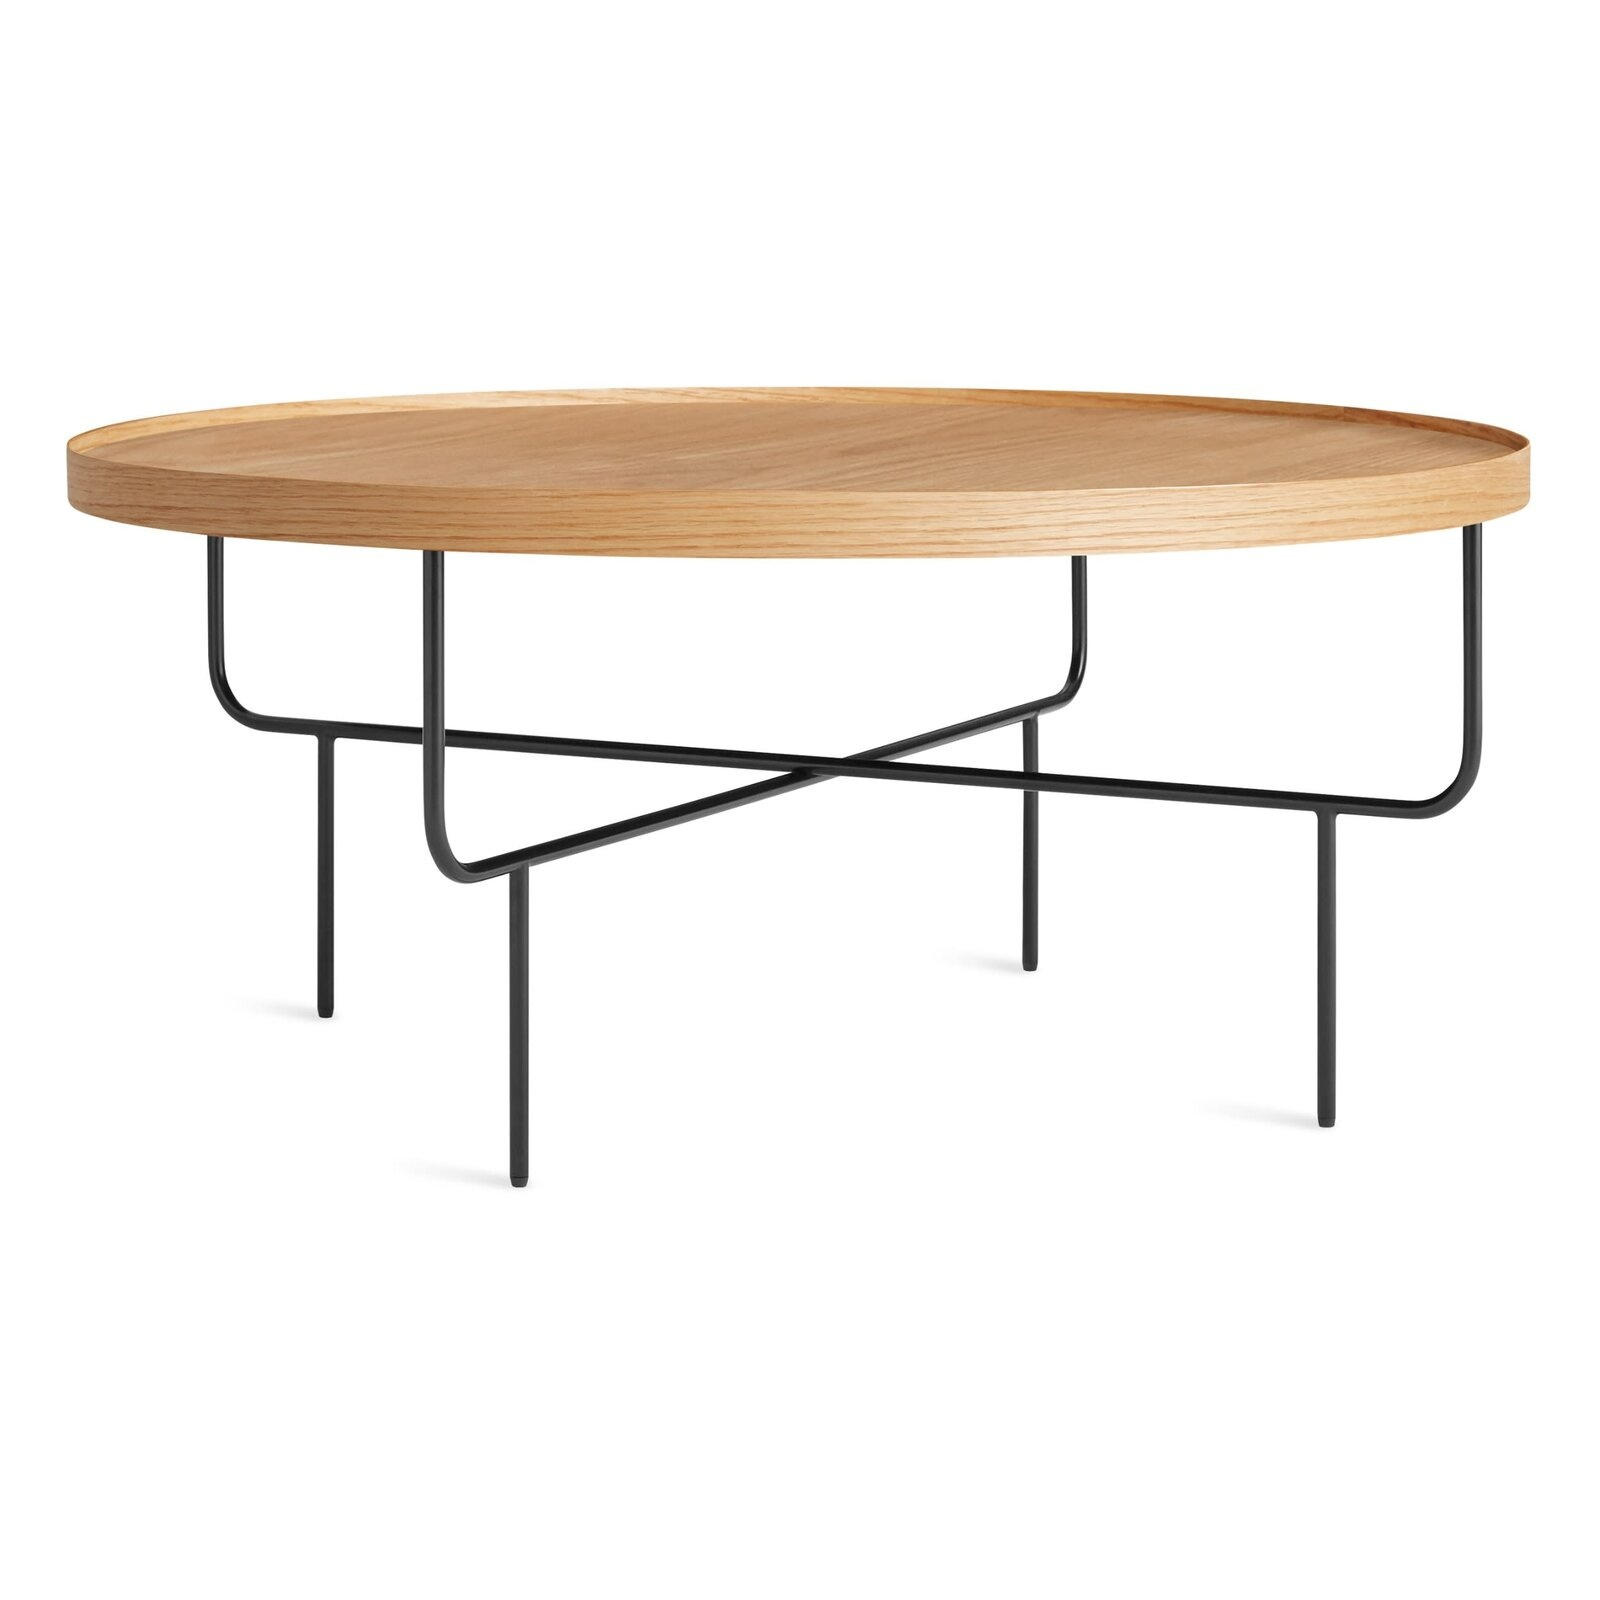obstacle: (67, 388, 1530, 1185)
